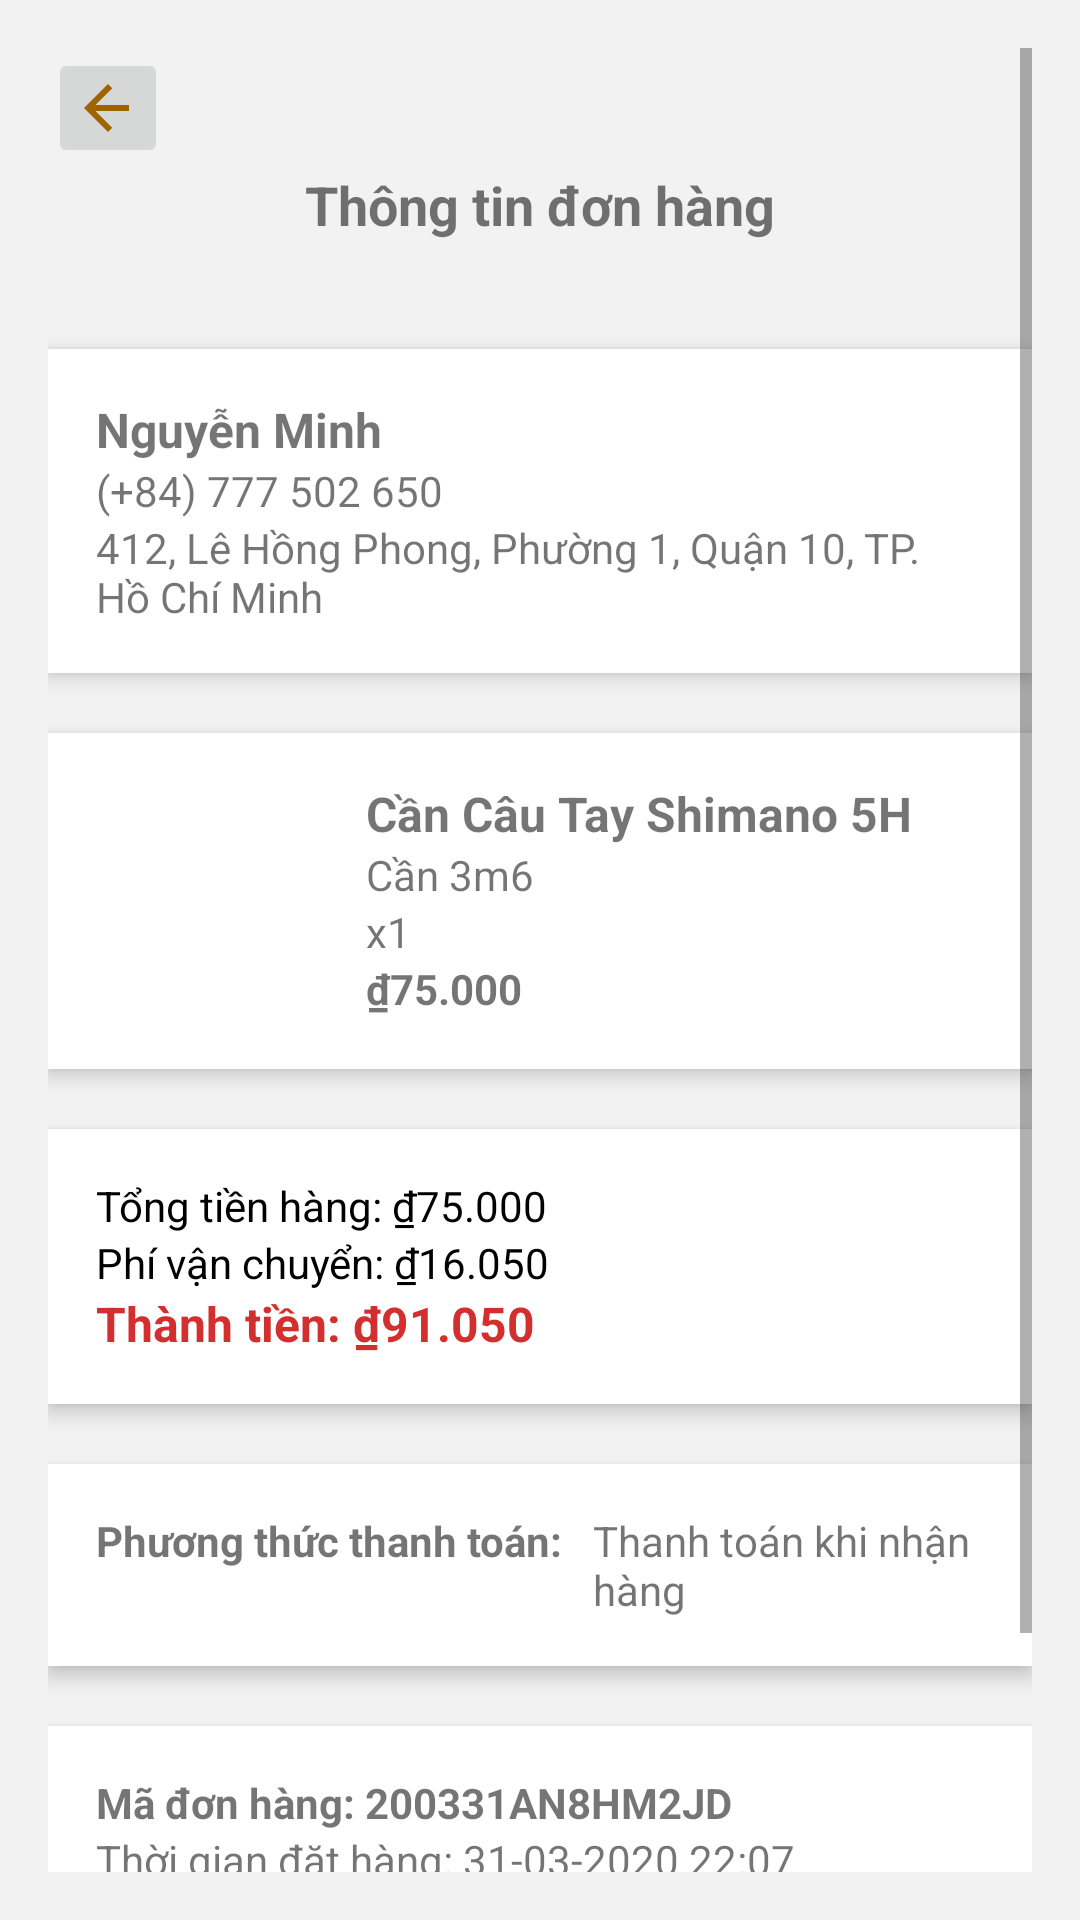

Screen size 1080w x 1920h. Icon name, then its center in pixels as point (x, y):
arrow back: point (108, 108)
